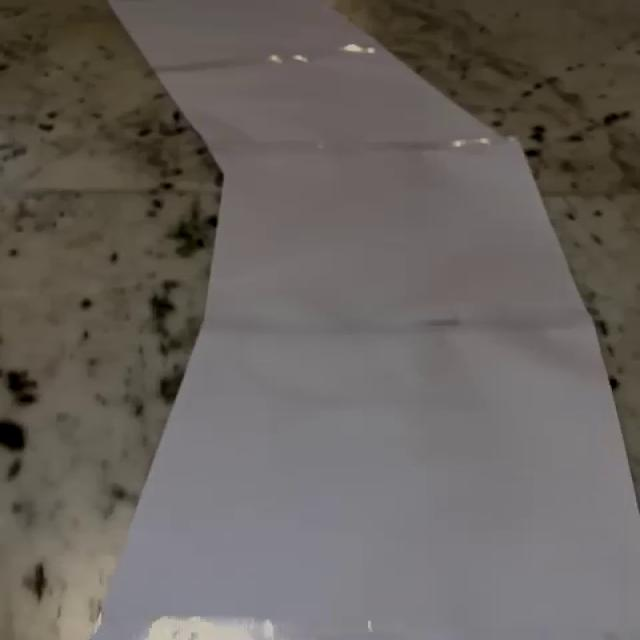road: (95, 0, 637, 640)
